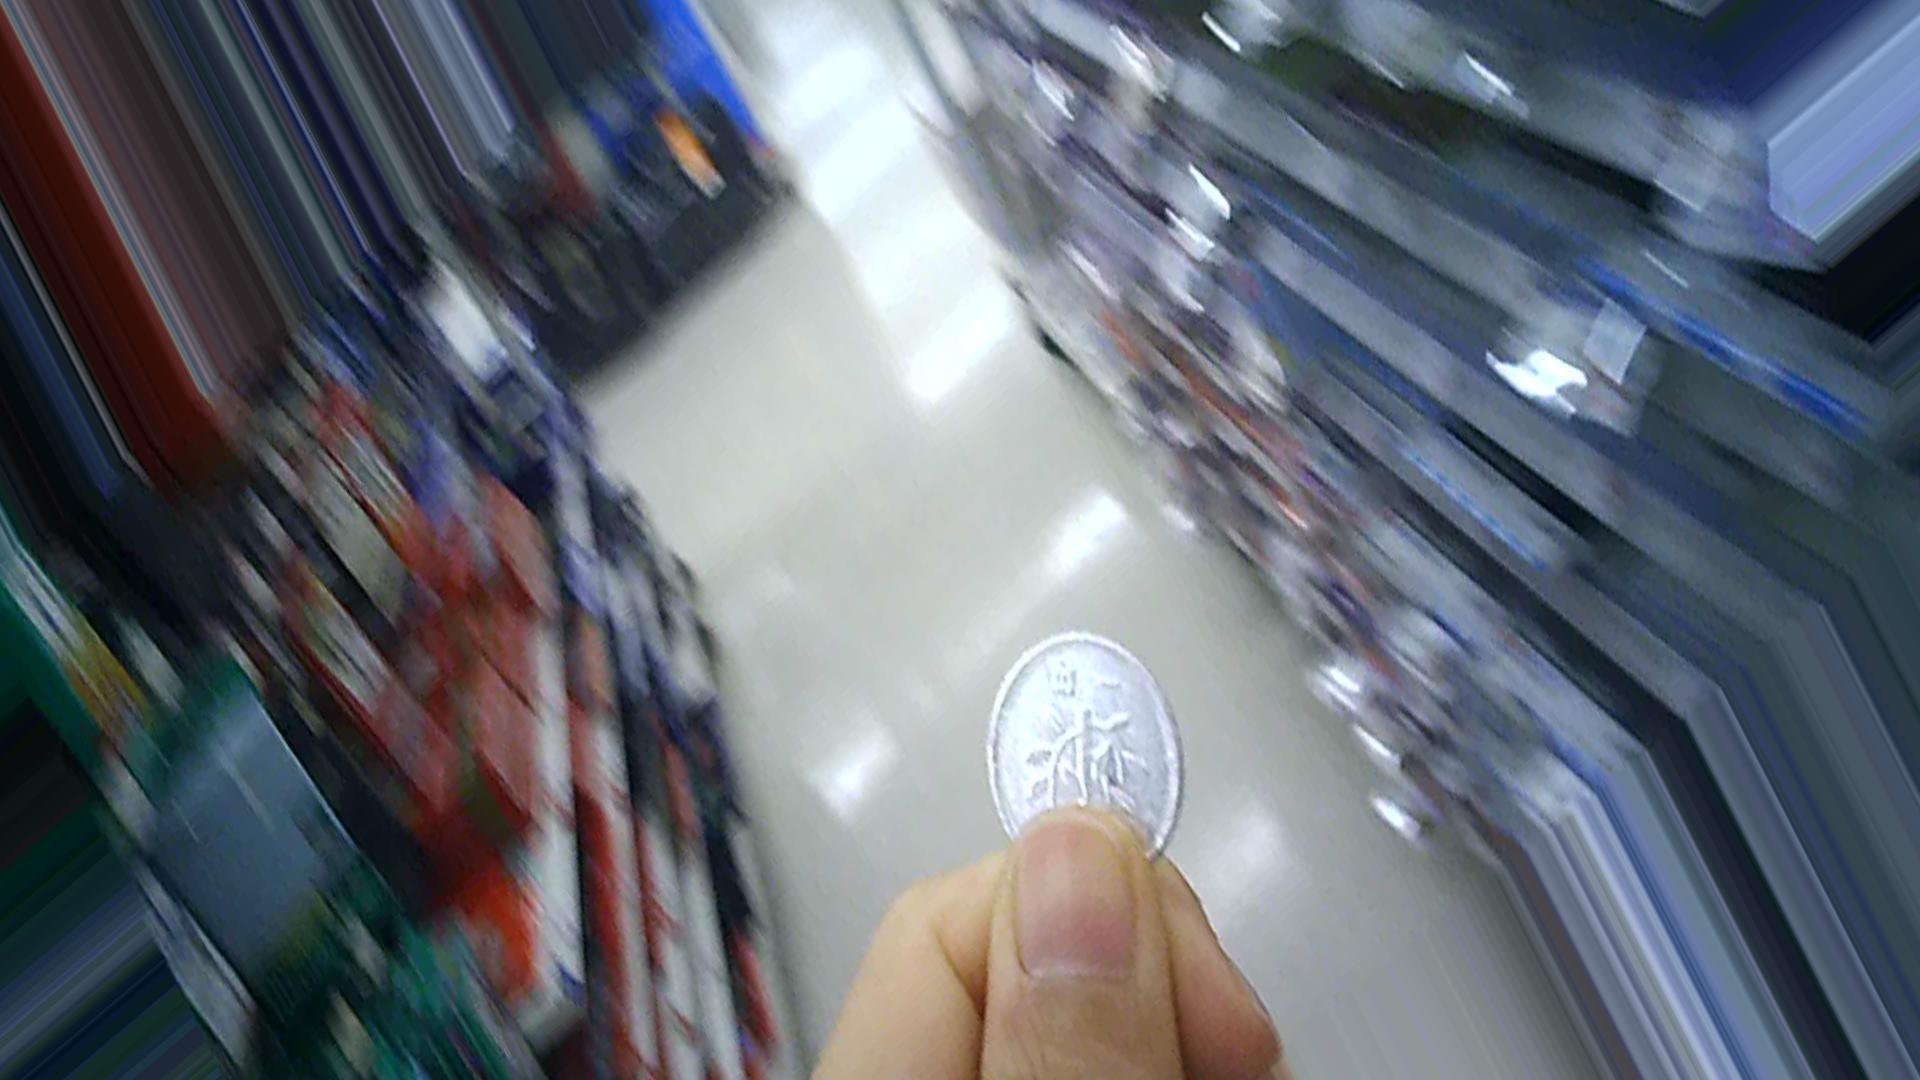1 Yen: (984, 622, 1178, 858)
